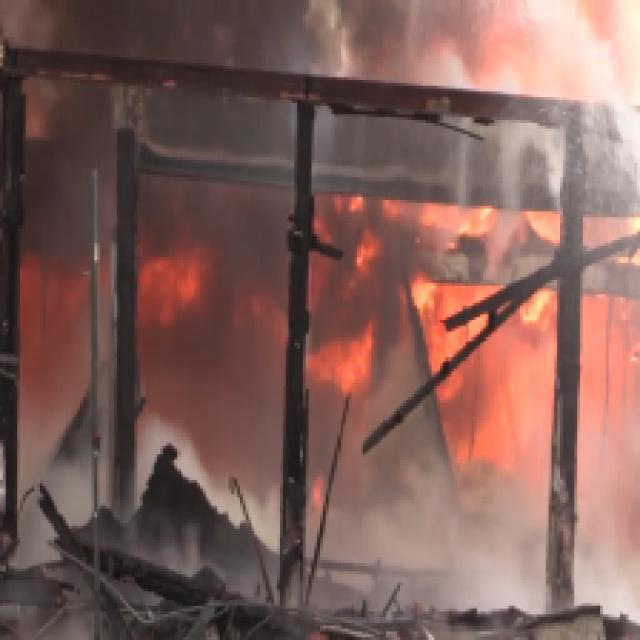Smoke: (210, 27, 630, 85), (351, 526, 525, 601), (24, 462, 90, 548), (592, 504, 634, 609)
